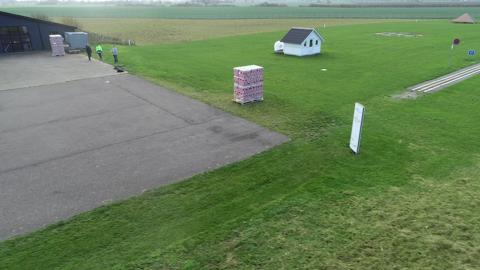RockwoolPallet: (49, 34, 67, 57)
